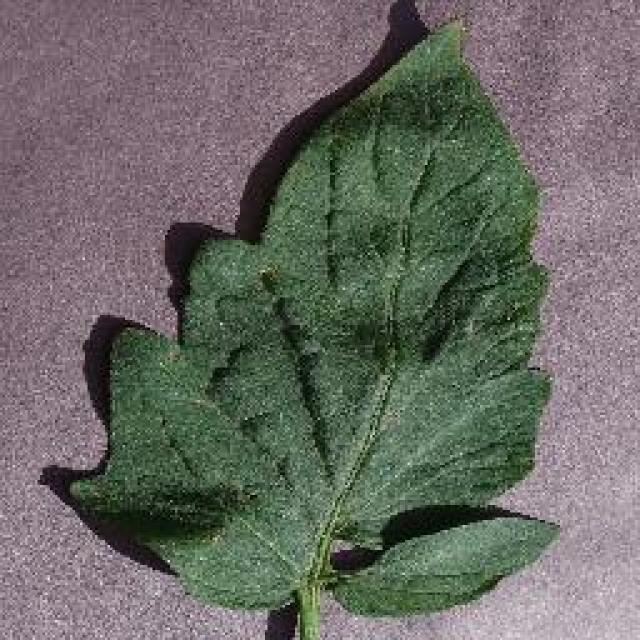Tomato___Target_Spot: (70, 25, 555, 638)
